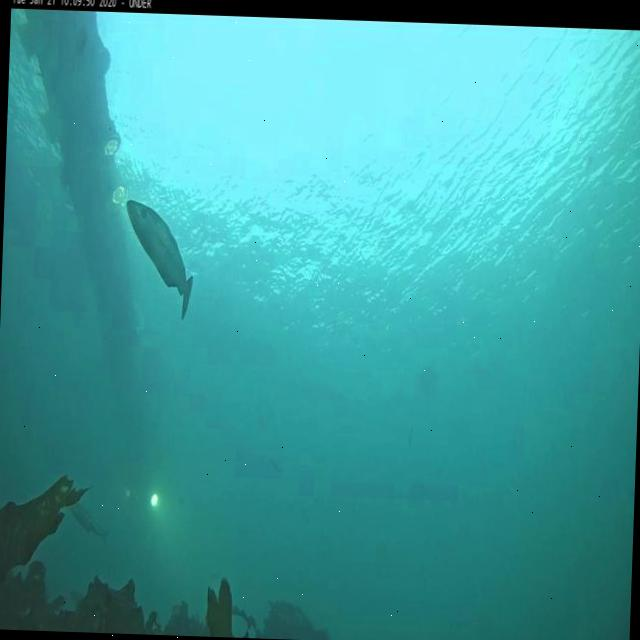fish: (122, 200, 198, 316)
